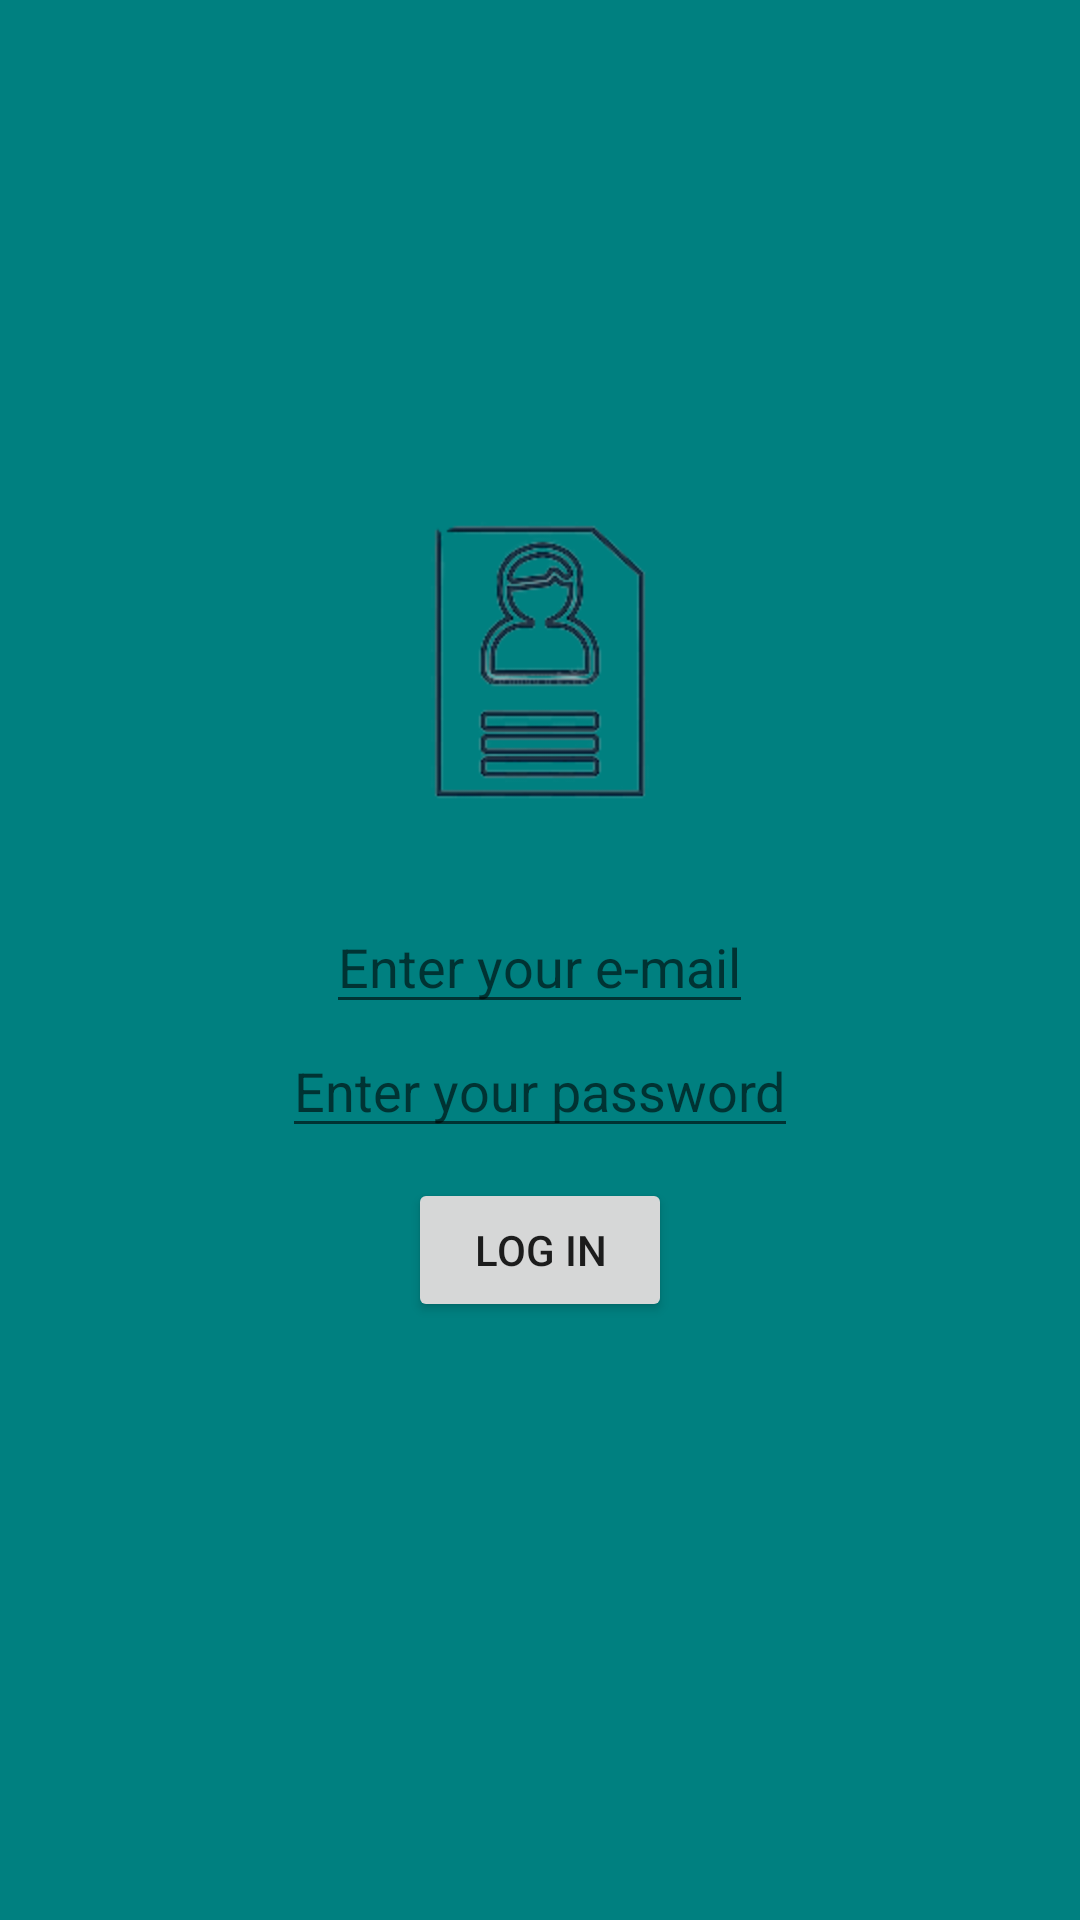

Point at icon controls on the screen. Image size 1080×1920, points as (x=x, y=y).
signup: (x=540, y=662)
